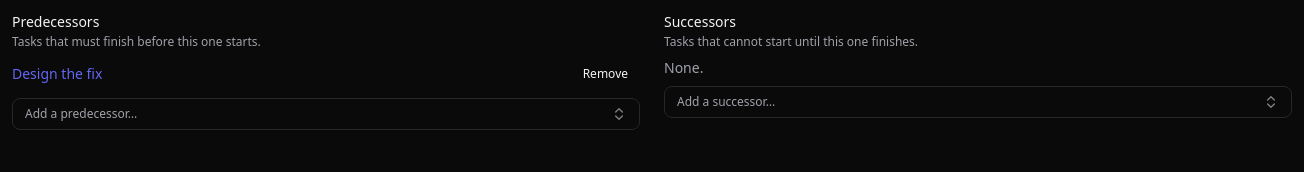
TaskDependencySection › removes a dependency
The width and height of the screenshot is (1304, 172).
Click the button with aria-label "Remove Design the fix from predecessors". click: (605,74)
box: [571,58,640,90]
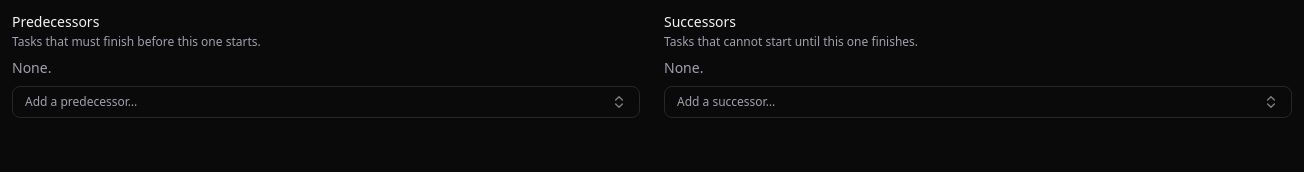
Now the link "Design the fix" is gone
